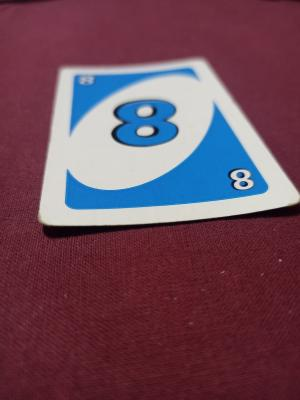blue: (71, 76, 231, 208)
num_8: (226, 164, 263, 195)
